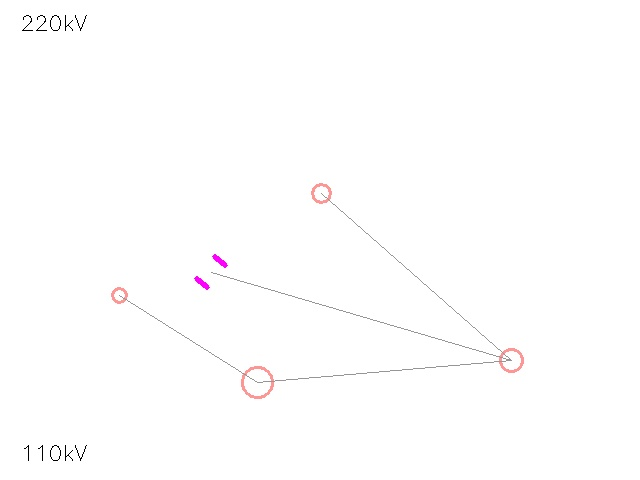capacitor: (187, 248, 235, 296)
current_transformer: (104, 280, 134, 310)
disconnect_switch: (227, 352, 287, 412)
reactor: (302, 174, 340, 212)
voltage_transformer: (489, 338, 533, 382)
